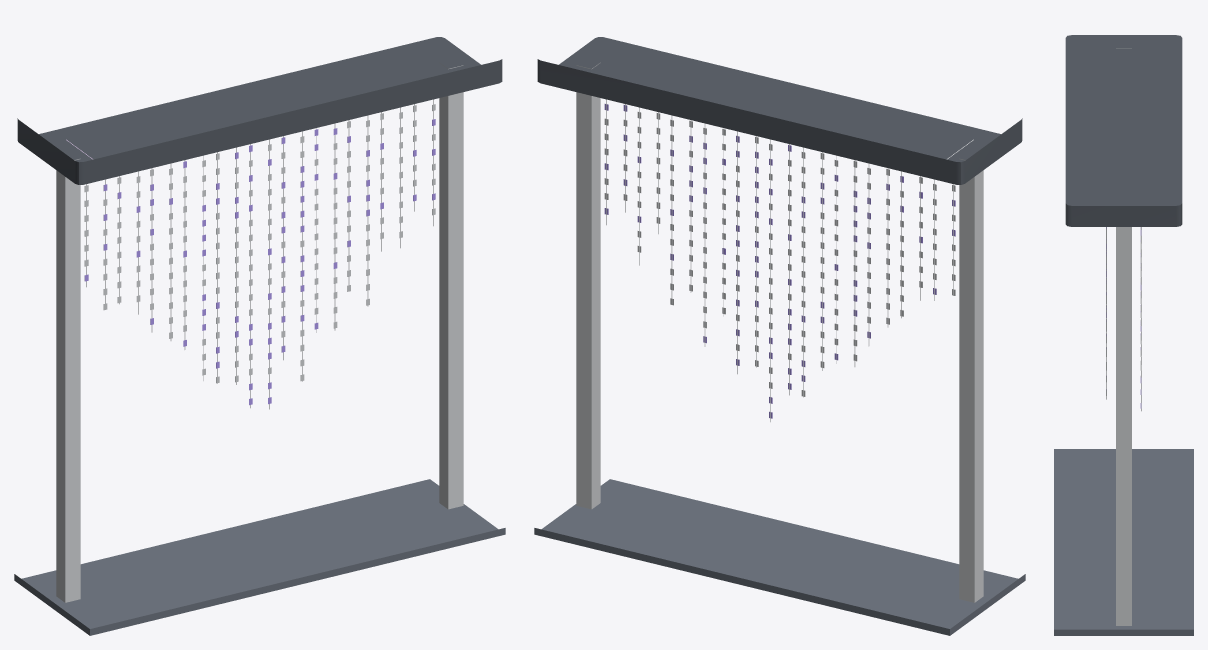
Rendered from ext_memorial_monument_04.glb.
3 views of the same model, side by side, from view 1: azimuth 30°, elevation 25°; view 2: azimuth 150°, elevation 25°; view 3: azimuth 270°, elevation 25° (orthographic). The views are drawn at different scales.
Visible parts, largest first — view 1: Floor_Plate, Canopy, Posts, Tags_Ti, Cables, Tags_Violet; view 2: Floor_Plate, Canopy, Posts, Tags_Ti, Cables, Tags_Violet; view 3: Floor_Plate, Canopy, Posts, Cables, Tags_Ti.
Boxes of the visible parts, x1,y1,x2,y2 form: Floor_Plate: (14,479,505,635); Canopy: (17,37,502,184); Posts: (56,62,463,602); Tags_Ti: (84,104,435,383); Cables: (86,99,433,409); Tags_Violet: (84,119,435,405); Floor_Plate: (534,479,1025,635); Canopy: (537,37,1022,184); Posts: (576,62,983,602); Tags_Ti: (604,112,955,396); Cables: (606,99,953,422); Tags_Violet: (604,104,955,418); Floor_Plate: (1054,449,1193,635); Canopy: (1065,35,1182,226); Posts: (1116,48,1131,625); Cables: (1106,227,1141,411); Tags_Ti: (1106,227,1141,395).
Bounding box in the file's own units: 3.9 × 4.1 × 1.2.
